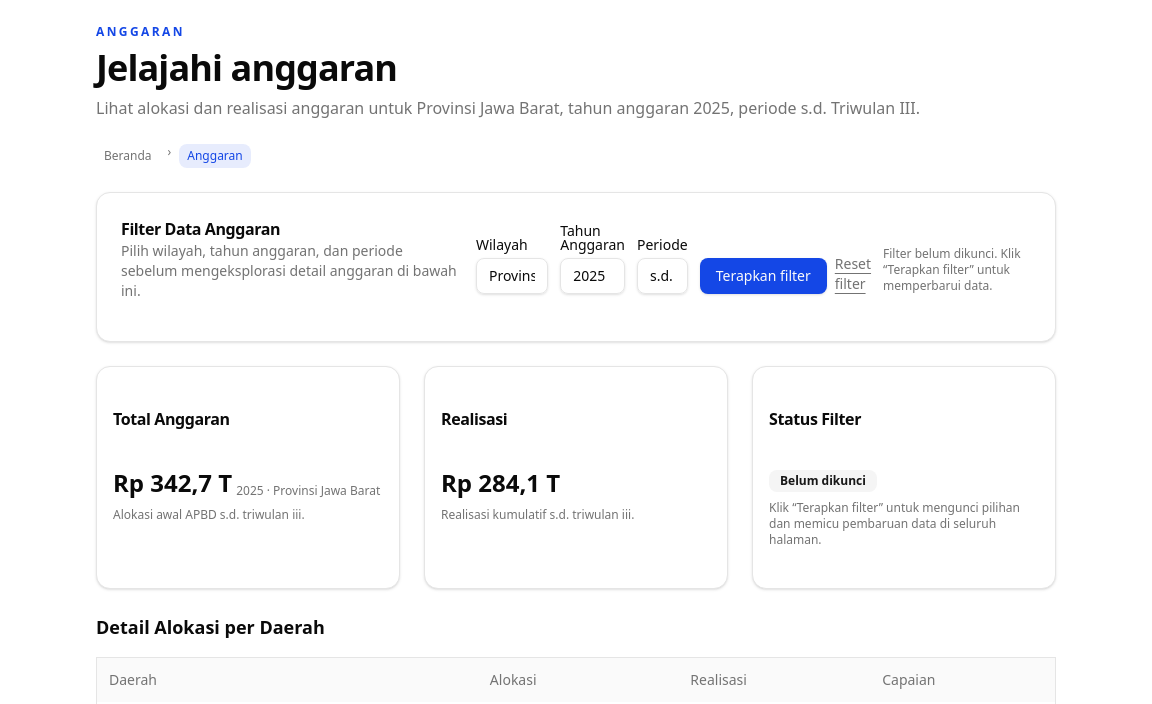
Test: AnggaranPage › mengunci filter dan memicu pembaruan data saat tombol Terapkan filter diklik
Select "Provinsi DKI Jakarta" in the dropdown labelled "Wilayah" at (512, 276), box [476,258,548,294]
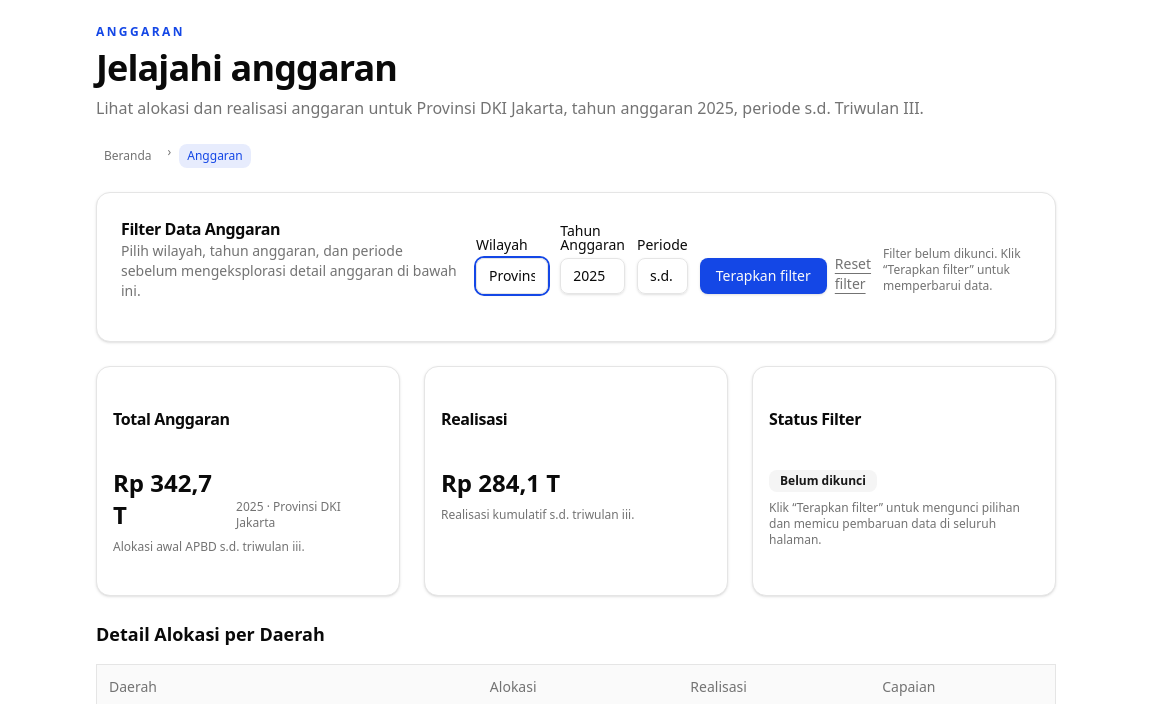
Select "2026" in the dropdown labelled "Tahun Anggaran" at (593, 276), box [560,258,625,294]
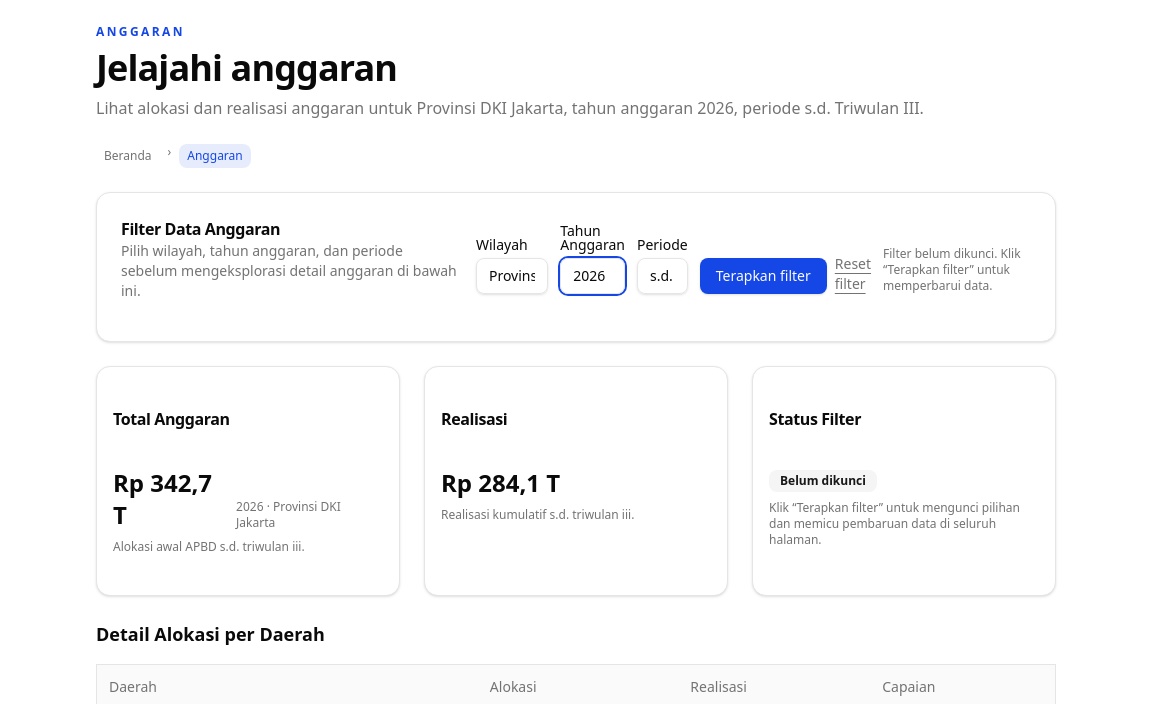
Click the button "Terapkan filter" at (763, 276), box [700,258,827,294]
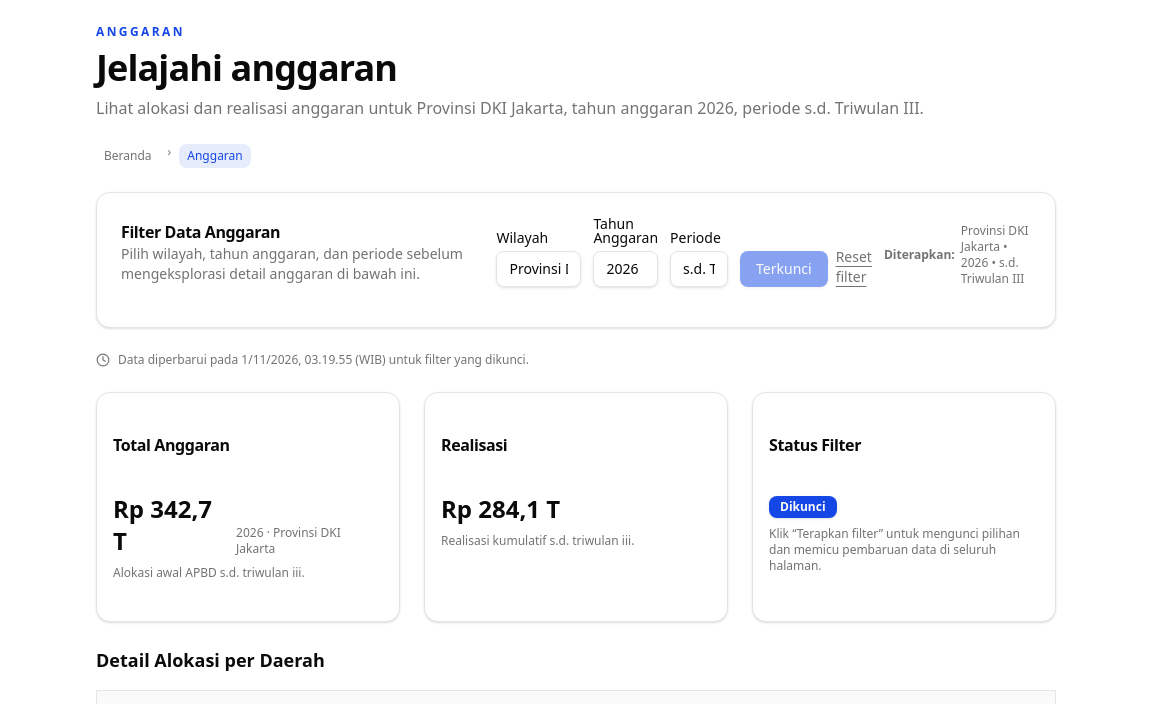
Expected: the button "Terkunci" is shown, [740,251,828,287]
Expected: the text "Diterapkan:" is shown, [884,247,955,263]
Expected: the text "Data diperbarui pada" is shown, [118,351,241,368]
